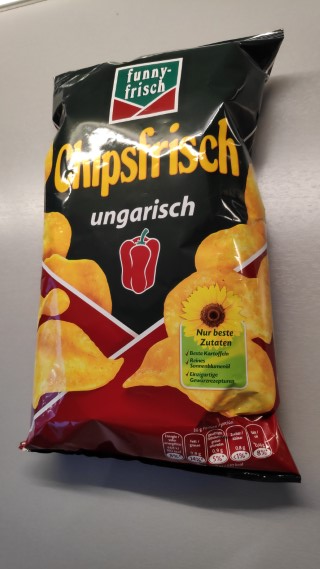chipsfrisch: (17, 29, 304, 485)
